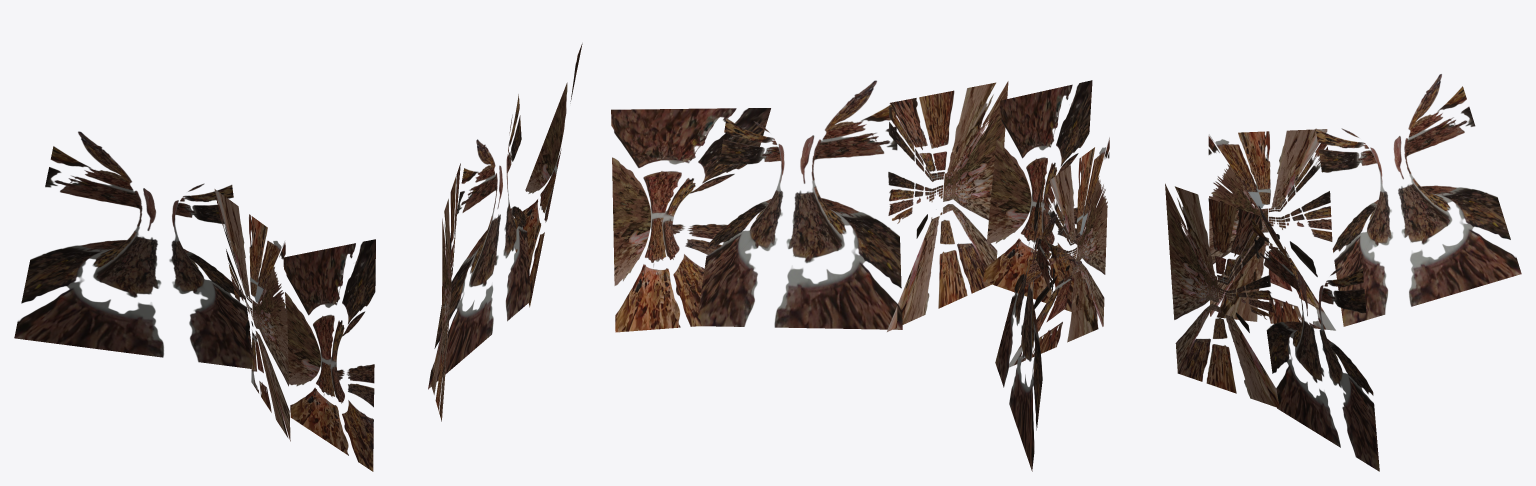
File: pielpartes.gltf
3 renders of one model, left to right at view 1: azimuth 30°, elevation 25°; view 2: azimuth 150°, elevation 25°; view 3: azimuth 270°, elevation 25°, orthographic. The views are drawn at different scales.
Parts seen in each view (by area): view 1: 1678201_mirror24-removebg-preview.002; view 2: 1678201_mirror24-removebg-preview.002; view 3: 1678201_mirror24-removebg-preview.002.
Boxes of the visible parts, x1,y1,x2,y2 form: 1678201_mirror24-removebg-preview.002: [14, 43, 582, 471]; 1678201_mirror24-removebg-preview.002: [611, 80, 1109, 471]; 1678201_mirror24-removebg-preview.002: [1165, 74, 1521, 471].
Size of the model in its own units: 210 by 126 by 155.
Materials: 7 (7 with a texture image).
